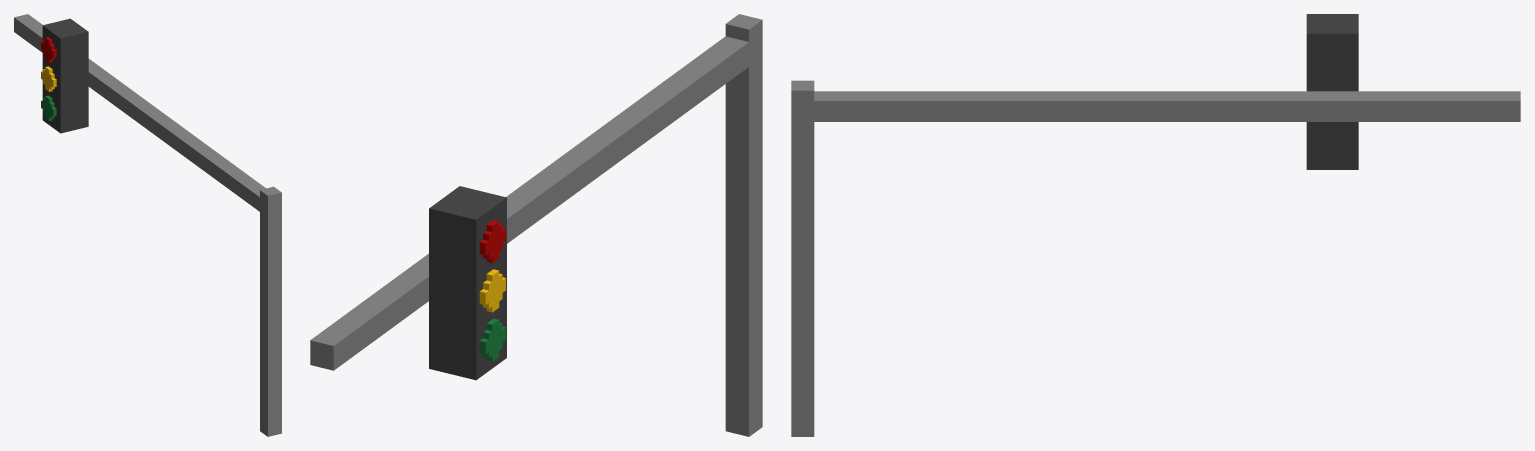
The model's file is StopLight-0.obj.
The picture shows the model from 3 angles, left to right: view 1: azimuth 30°, elevation 25°; view 2: azimuth 150°, elevation 25°; view 3: azimuth 270°, elevation 25°; orthographic projection. The views are drawn at different scales.
Size of the model in its own units: 1.3 by 7.5 by 12.6.
Materials: 1 (1 with a texture image).
